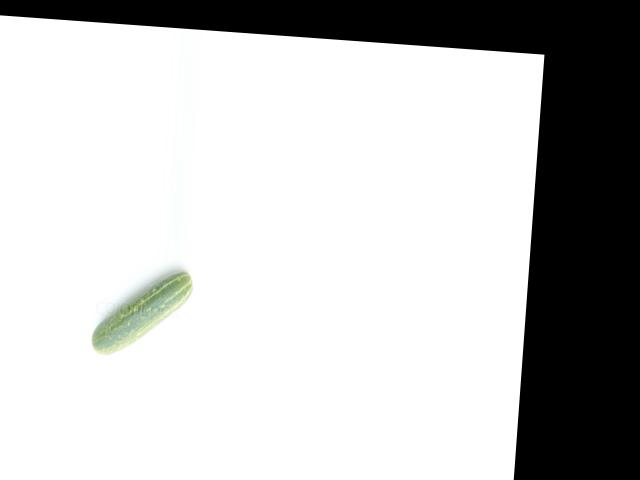cucumber: (91, 264, 195, 361)
